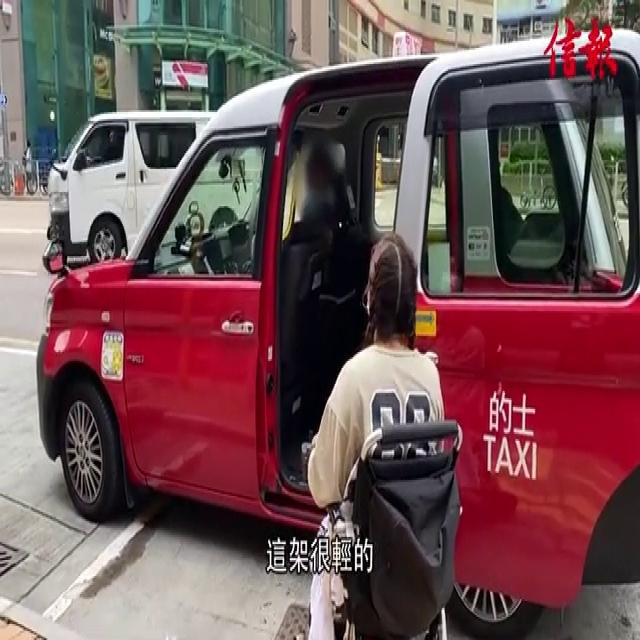wheelchairs: (294, 396, 470, 640)
